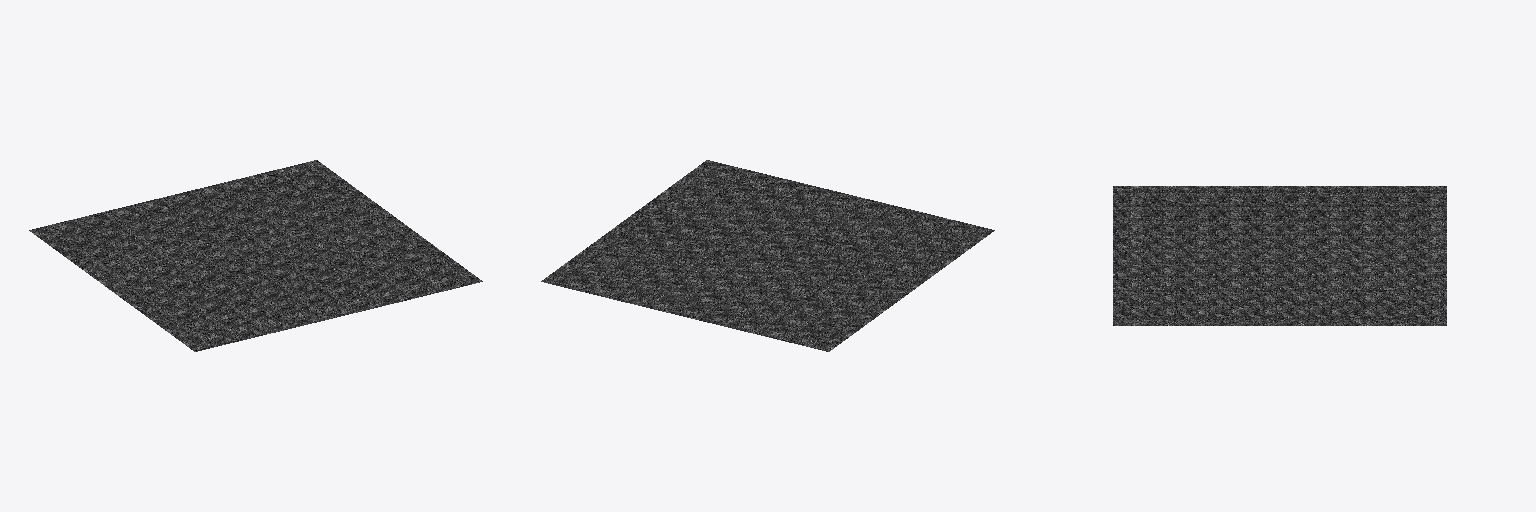
The picture shows the model from 3 angles: view 1: azimuth 30°, elevation 25°; view 2: azimuth 150°, elevation 25°; view 3: azimuth 270°, elevation 25°; orthographic projection.
Visible parts, largest first — view 1: Plane; view 2: Plane; view 3: Plane.
Part boxes in pixels (x1,y1,x2,y2): Plane: (29, 160, 482, 351); Plane: (541, 160, 994, 351); Plane: (1113, 186, 1446, 325).
Size of the model in its own units: 200 by 0 by 200.
Materials: 1 (1 with a texture image).